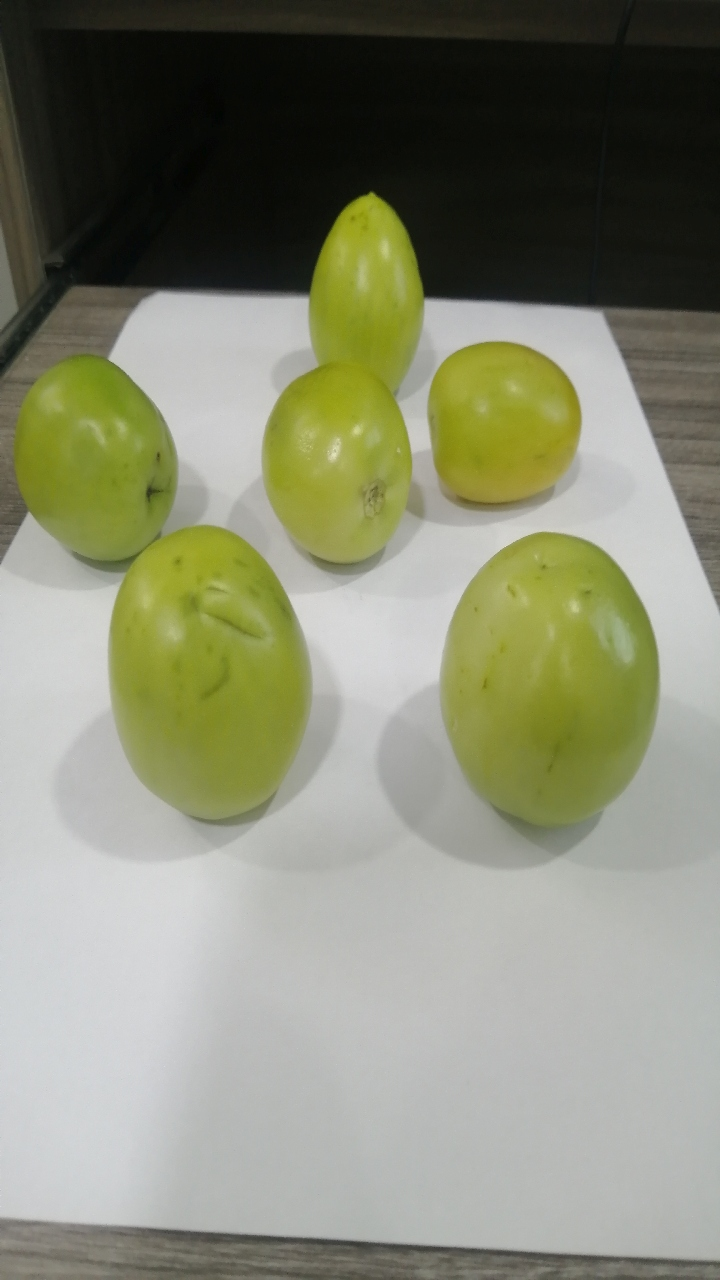tomateVerde: (435, 508, 674, 837), (89, 509, 329, 832), (12, 320, 192, 585), (271, 166, 457, 402), (235, 352, 421, 579), (412, 331, 606, 525)
